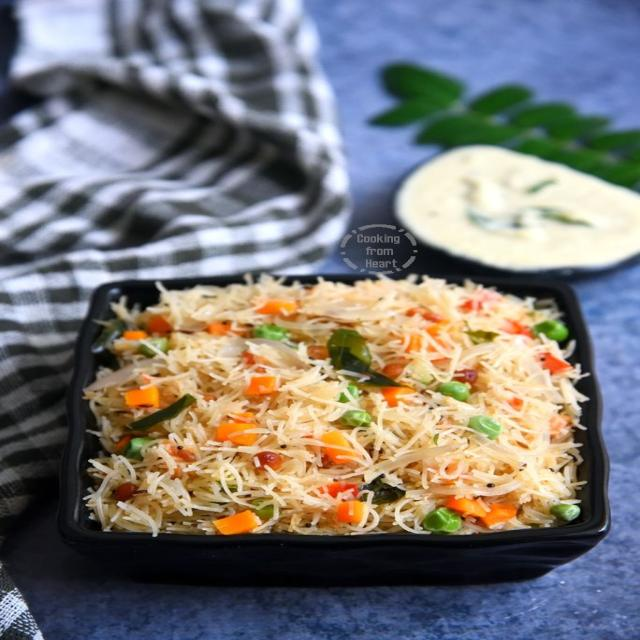POHA: (81, 277, 583, 530)
